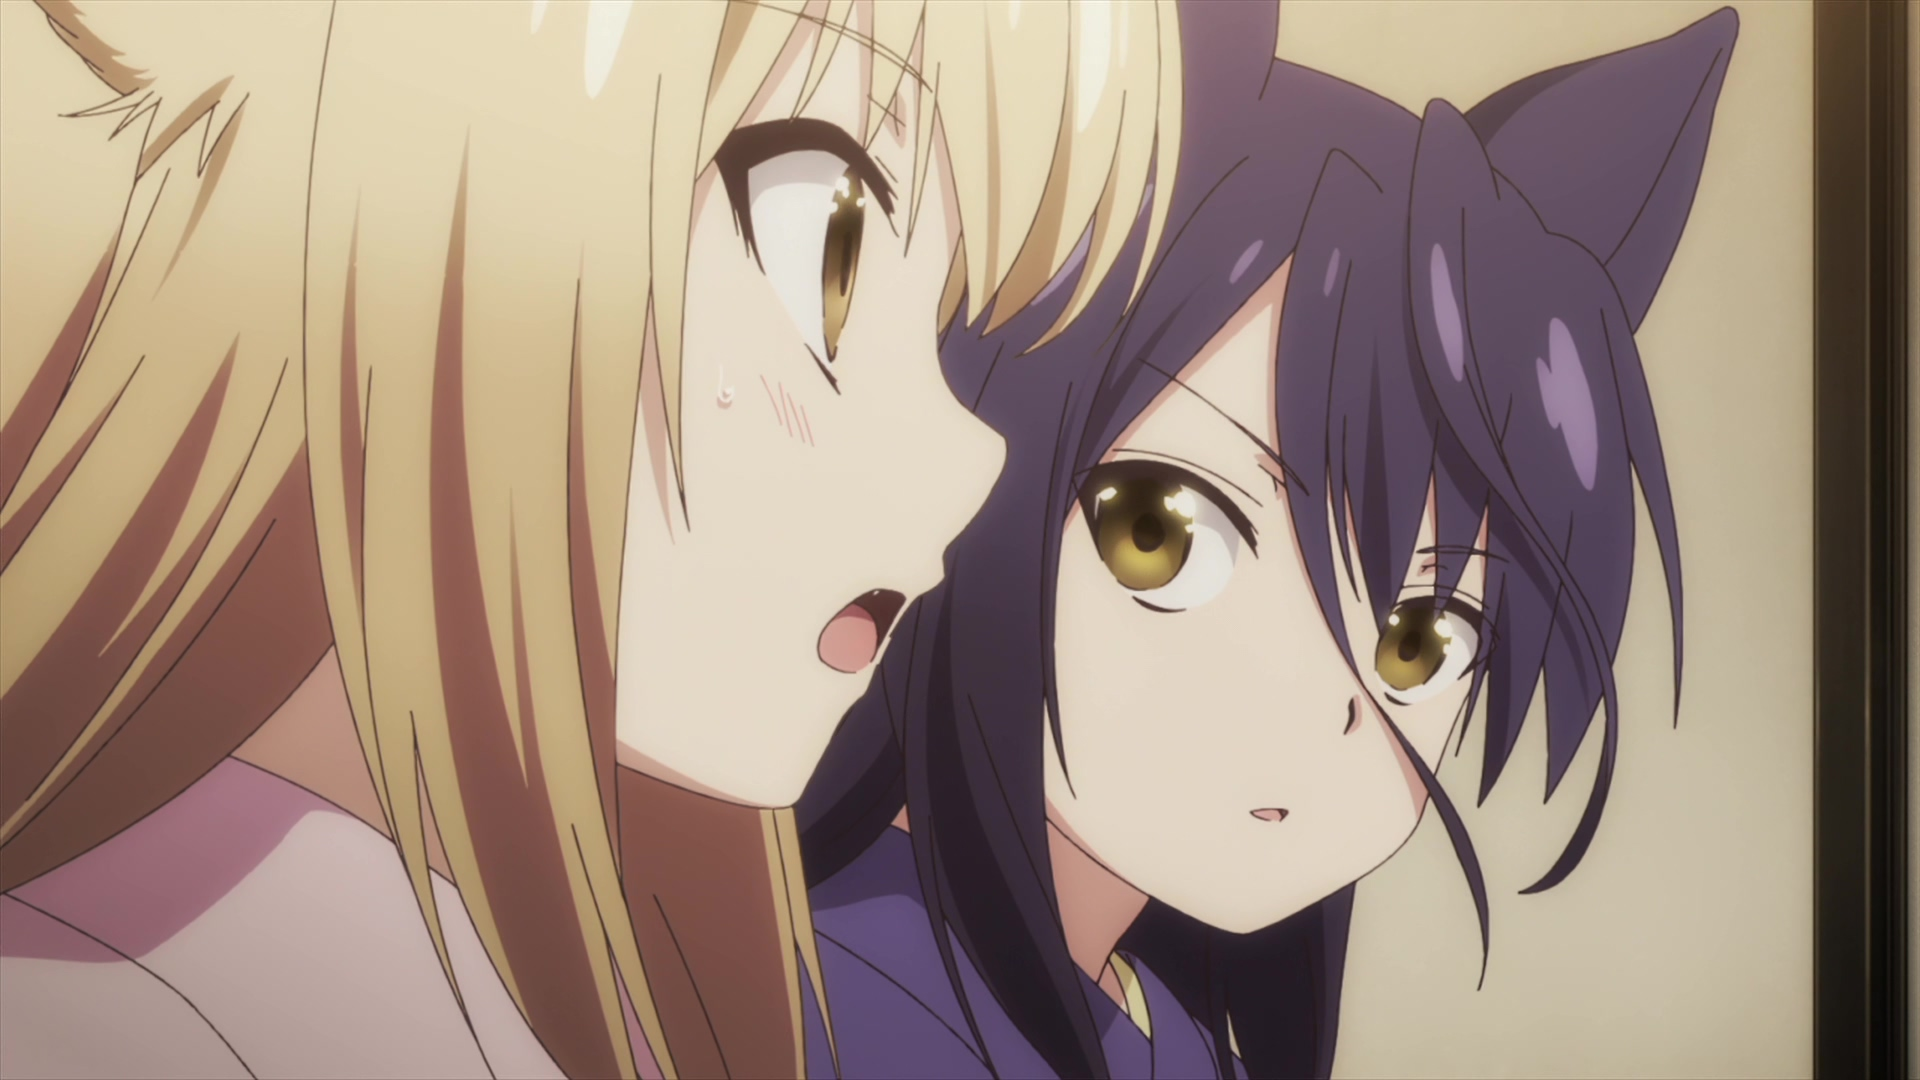柚: (1, 1, 1185, 1080)
皋: (793, 1, 1743, 1079)
